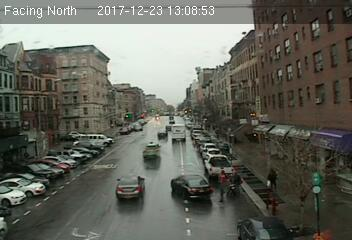car: (171, 174, 212, 201), (113, 173, 146, 200), (204, 154, 235, 179), (142, 142, 161, 161)
pedestrian: (215, 168, 229, 204), (266, 168, 277, 191)
truck: (172, 123, 185, 142)
